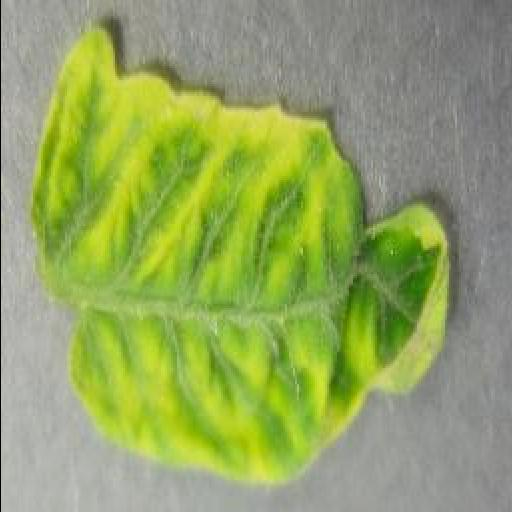disease_tomato: (22, 23, 450, 485)
